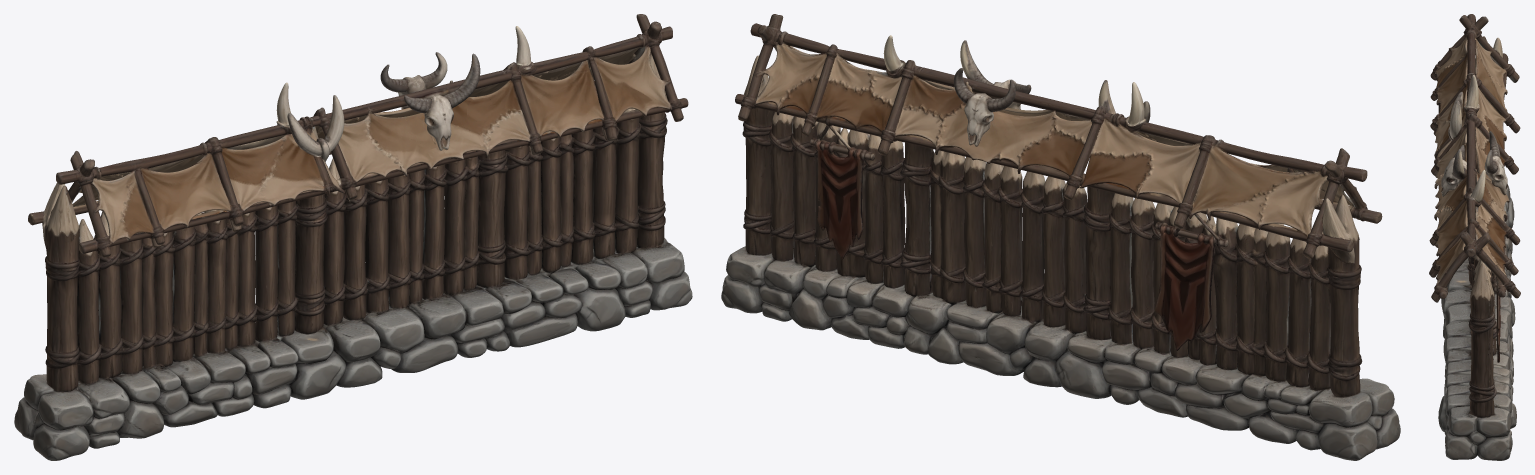
The model's file is TrollPalisade_300k.glb.
The picture shows the model from 3 angles, left to right: view 1: azimuth 30°, elevation 25°; view 2: azimuth 150°, elevation 25°; view 3: azimuth 270°, elevation 25°; orthographic projection. The views are drawn at different scales.
Parts seen in each view (by area): view 1: Mesh_0; view 2: Mesh_0; view 3: Mesh_0.
Part boxes in pixels (x1,y1,x2,y2): Mesh_0: (14, 14, 692, 460); Mesh_0: (721, 14, 1400, 460); Mesh_0: (1429, 14, 1520, 460).
Size of the model in its own units: 1.9 by 0.8696 by 0.2993.
Materials: 1 (1 with a texture image).
